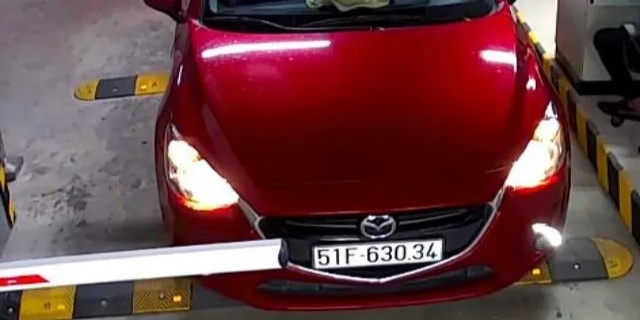bien_so: (312, 241, 441, 269)
